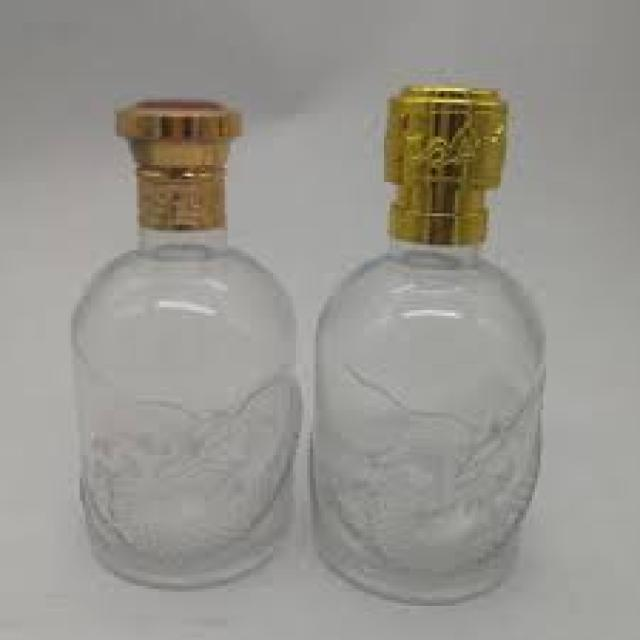bottle: (313, 86, 543, 603), (72, 103, 301, 588)
metal: (384, 86, 506, 244), (117, 100, 241, 230)
